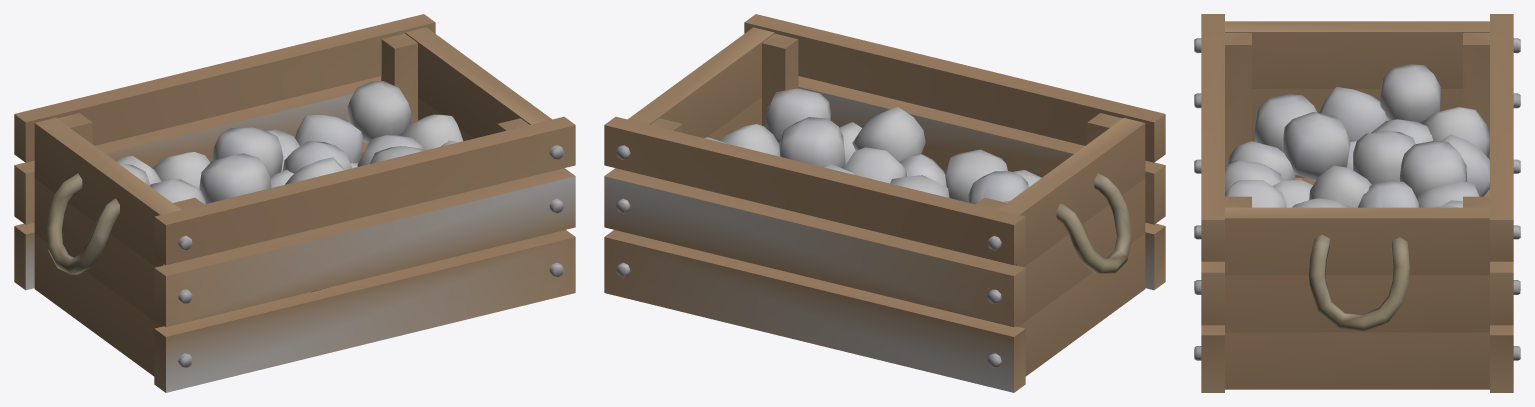
File: FarmCrate_Apple.glb
The picture shows the model from 3 angles, left to right: view 1: azimuth 30°, elevation 25°; view 2: azimuth 150°, elevation 25°; view 3: azimuth 270°, elevation 25°; orthographic projection. The views are drawn at different scales.
Visible parts, largest first — view 1: FarmCrate_Apple_e65da2, FarmCrate_Apple_b3af02, FarmCrate_Apple_ebfc24; view 2: FarmCrate_Apple_e65da2, FarmCrate_Apple_b3af02, FarmCrate_Apple_ebfc24; view 3: FarmCrate_Apple_e65da2, FarmCrate_Apple_b3af02, FarmCrate_Apple_ebfc24.
Part boxes in pixels (bbox=[...]): FarmCrate_Apple_e65da2: bbox=[14, 14, 575, 392]; FarmCrate_Apple_b3af02: bbox=[115, 81, 463, 292]; FarmCrate_Apple_ebfc24: bbox=[178, 145, 563, 367]; FarmCrate_Apple_e65da2: bbox=[604, 14, 1165, 392]; FarmCrate_Apple_b3af02: bbox=[704, 88, 1041, 204]; FarmCrate_Apple_ebfc24: bbox=[616, 145, 1001, 367]; FarmCrate_Apple_e65da2: bbox=[1201, 14, 1513, 392]; FarmCrate_Apple_b3af02: bbox=[1225, 64, 1489, 207]; FarmCrate_Apple_ebfc24: bbox=[1194, 38, 1520, 360].
Bounding box in the file's own units: 0.7138 × 0.2438 × 0.4142.
